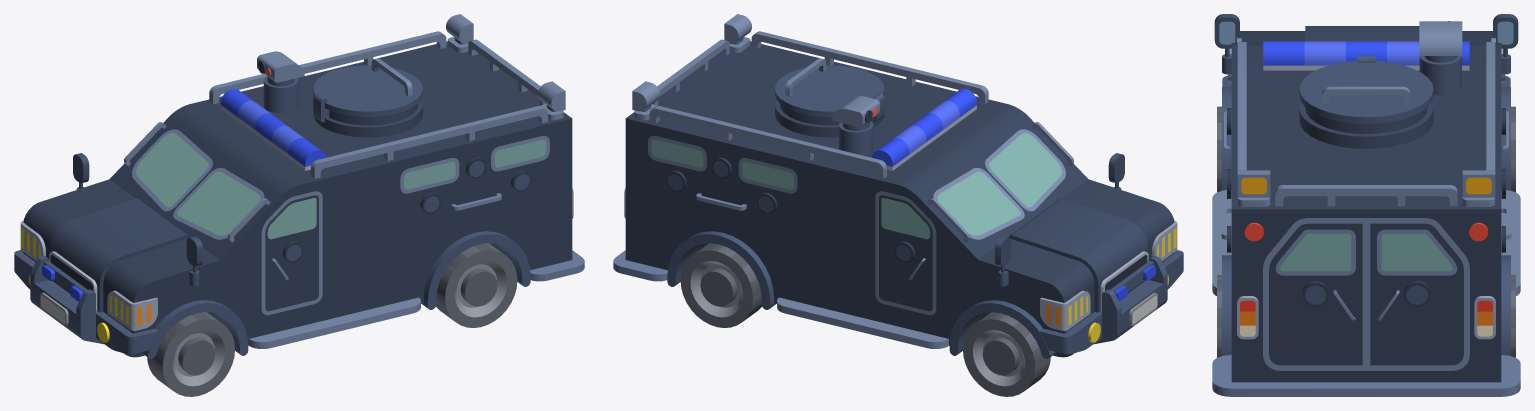
File: Swat Truck.fbx
3 renders of one model, left to right at view 1: azimuth 30°, elevation 25°; view 2: azimuth 150°, elevation 25°; view 3: azimuth 270°, elevation 25°, orthographic. The views are drawn at different scales.
Visible parts, largest first — view 1: Swat Truck, Swat Truck Wheel, Swat Truck Wheel.001, Swat Truck Cover; view 2: Swat Truck, Swat Truck Wheel, Swat Truck Wheel.001, Swat Truck Cover; view 3: Swat Truck, Swat Truck Door.001, Swat Truck Door, Swat Truck Cover, Swat Truck Wheel, Swat Truck Wheel.001.
Boxes of the visible parts, x1,y1,x2,y2 form: Swat Truck: (14, 14, 584, 358); Swat Truck Wheel: (147, 312, 234, 396); Swat Truck Wheel.001: (436, 243, 517, 327); Swat Truck Cover: (313, 58, 422, 116); Swat Truck: (613, 14, 1183, 358); Swat Truck Wheel: (963, 312, 1050, 396); Swat Truck Wheel.001: (680, 243, 761, 327); Swat Truck Cover: (775, 58, 884, 116); Swat Truck: (1212, 14, 1520, 396); Swat Truck Door.001: (1366, 218, 1469, 370); Swat Truck Door: (1263, 218, 1366, 370); Swat Truck Cover: (1299, 61, 1433, 123); Swat Truck Wheel: (1217, 106, 1515, 192); Swat Truck Wheel.001: (1217, 275, 1515, 357).
Size of the model in its own units: 1357 by 624 by 625.
